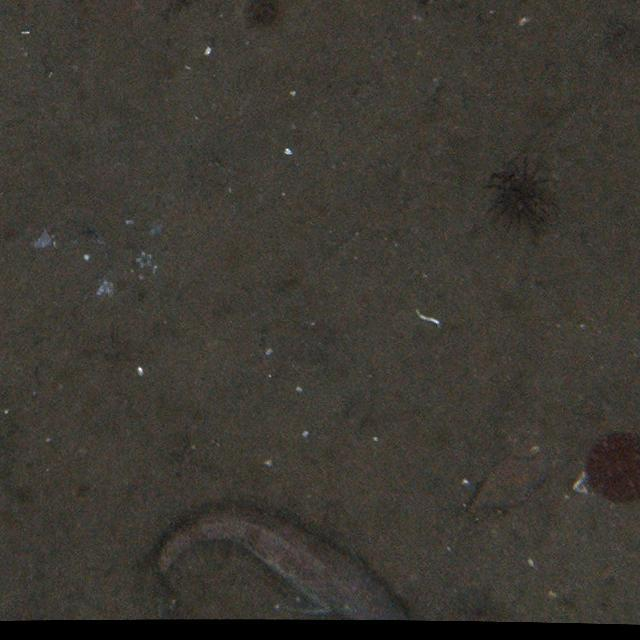roundfish: (158, 493, 449, 620)
